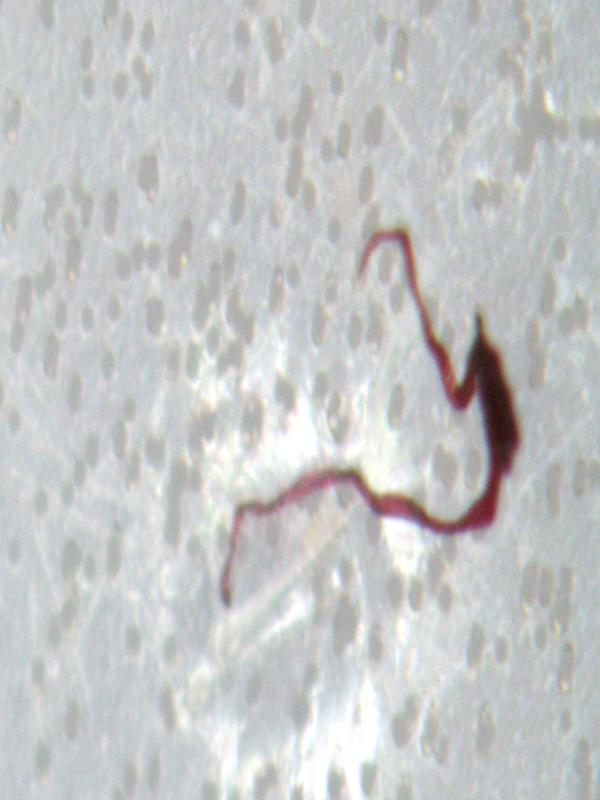microplastic: (218, 224, 522, 609)
